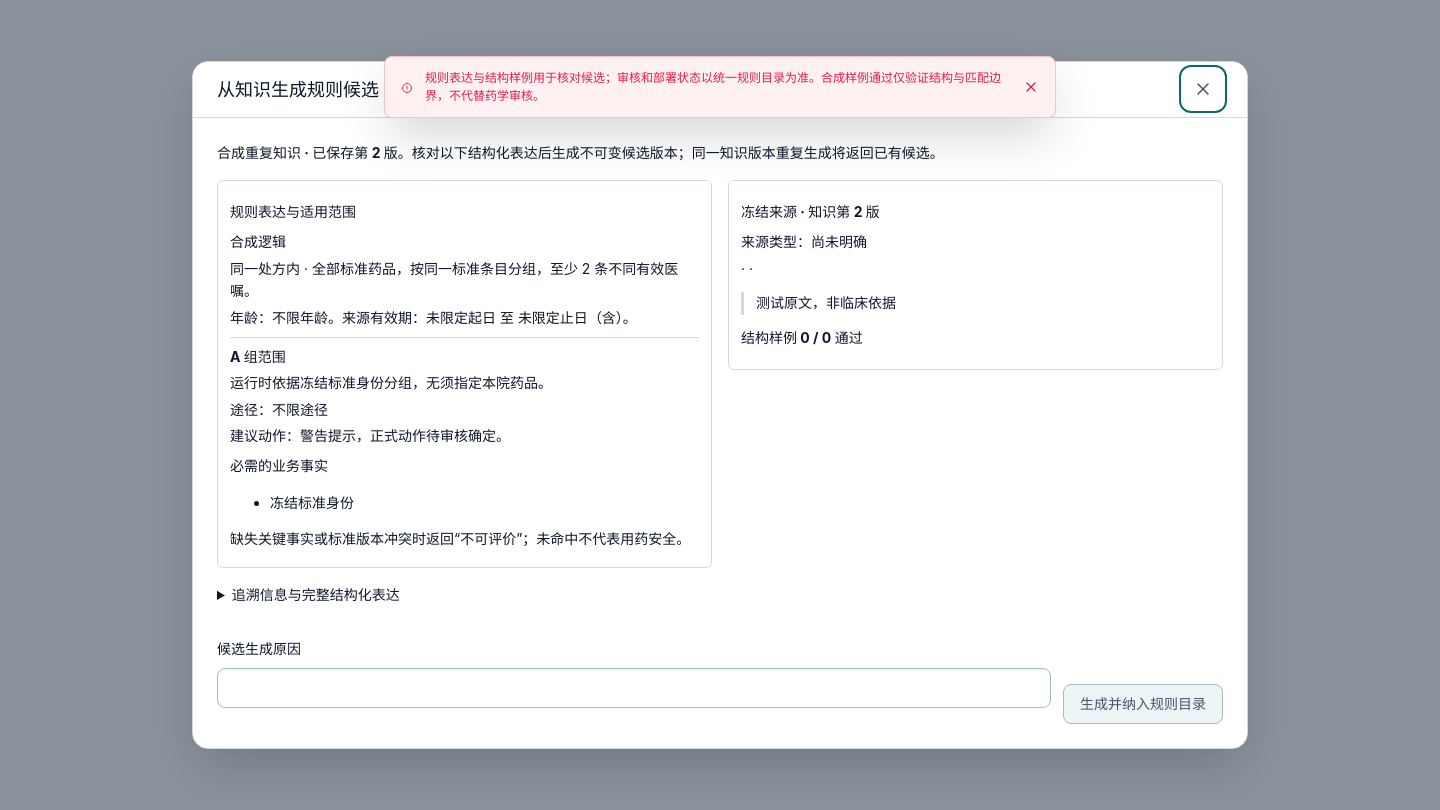
Test: previews universal scope and creates only with reason, pinned source version and expression hash
Expected: the text "运行时依据冻结标准身份分组，无须指定本院药品。" is shown, [230,374,552,391]
Expected: the button "生成并纳入规则目录" is disabled, [1063,684,1223,724]
Type "核对原文" into the field labelled "候选生成原因" at (634, 688), box [217,668,1051,708]
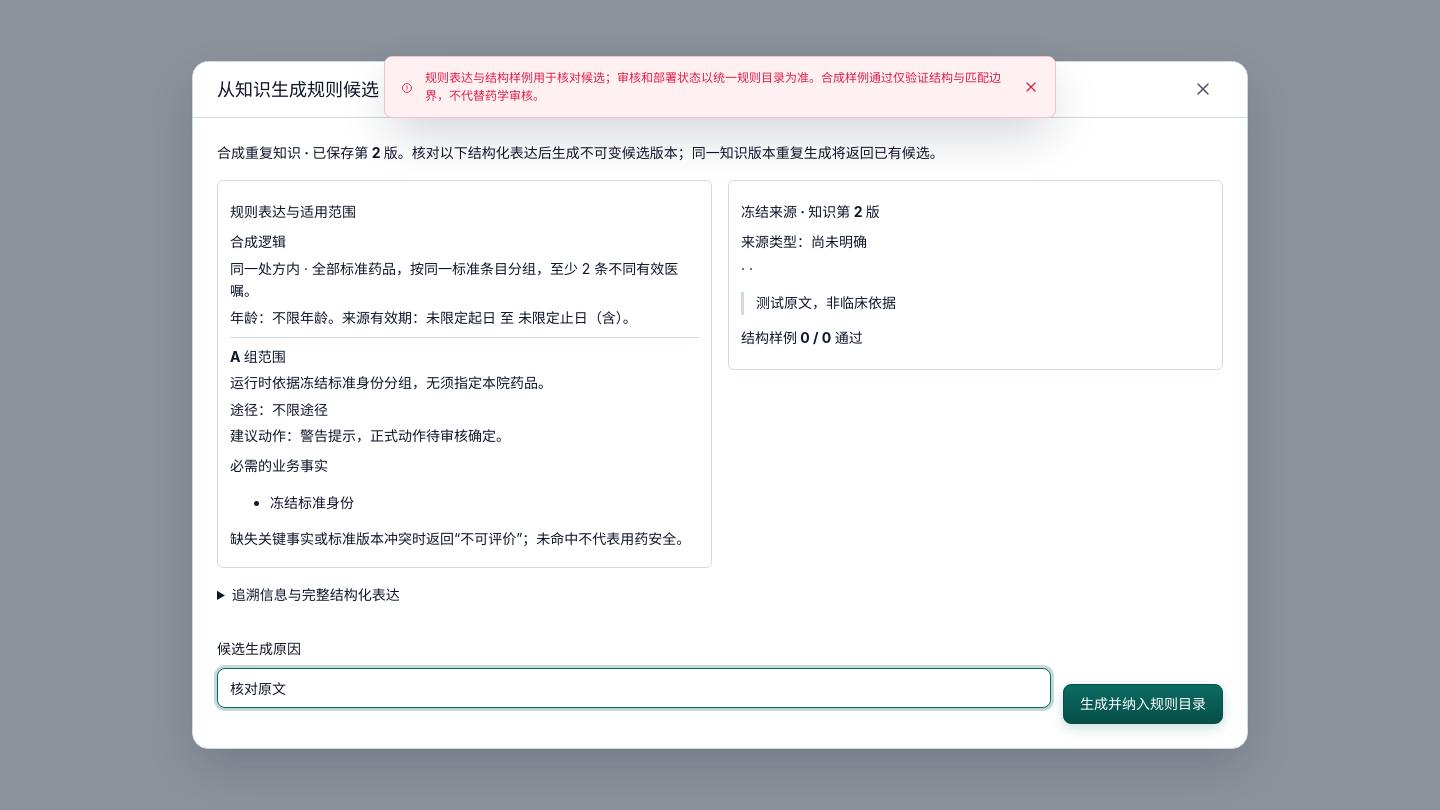
Click the button "生成并纳入规则目录" at (1143, 704), box [1063,684,1223,724]
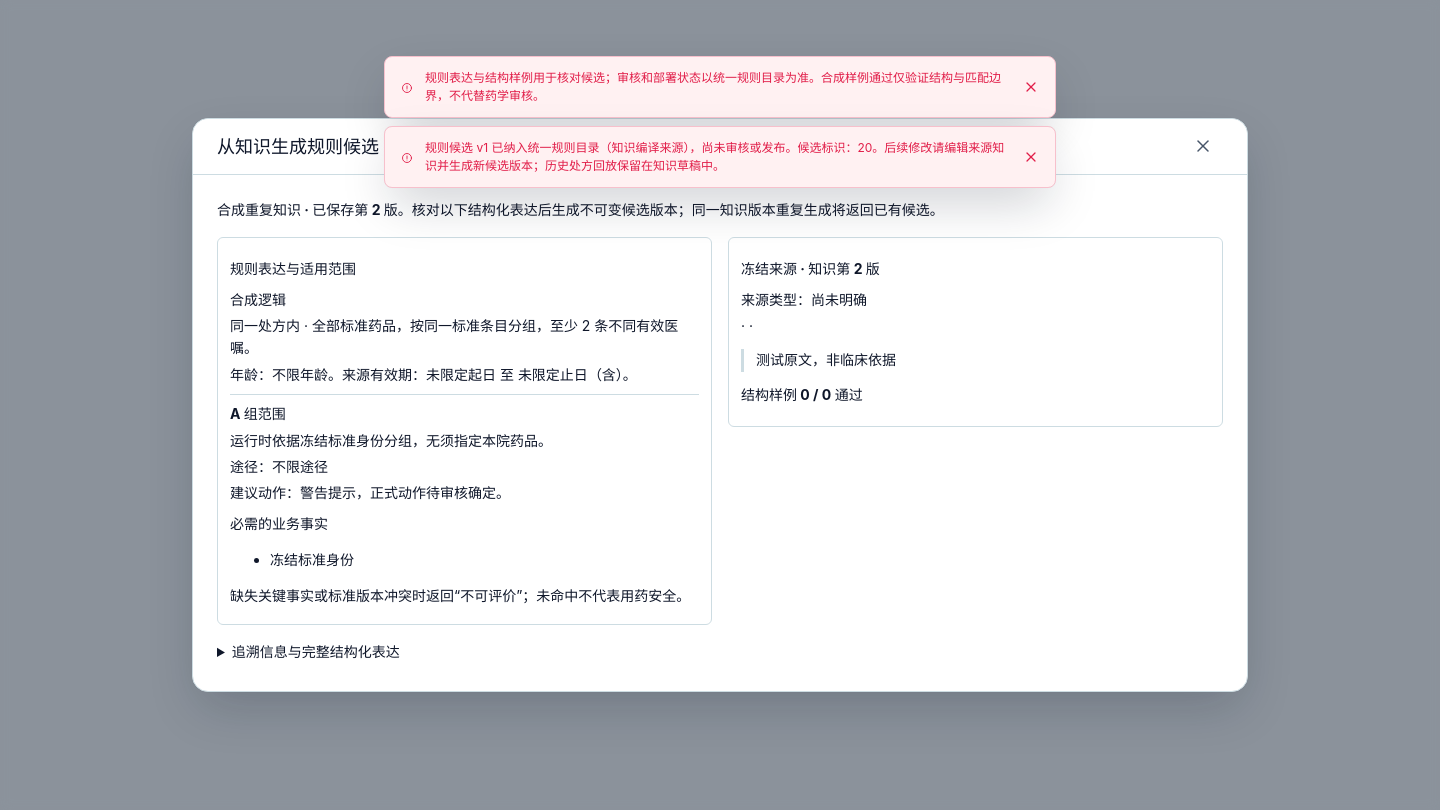
Expected: the text "测试原文，非临床依据" is shown, [741,349,1210,372]
Expected: the text "规则候选 v1 已纳入统一规则目录" is shown, [425,139,1007,175]
Expected: the button "生成并纳入规则目录" is gone
